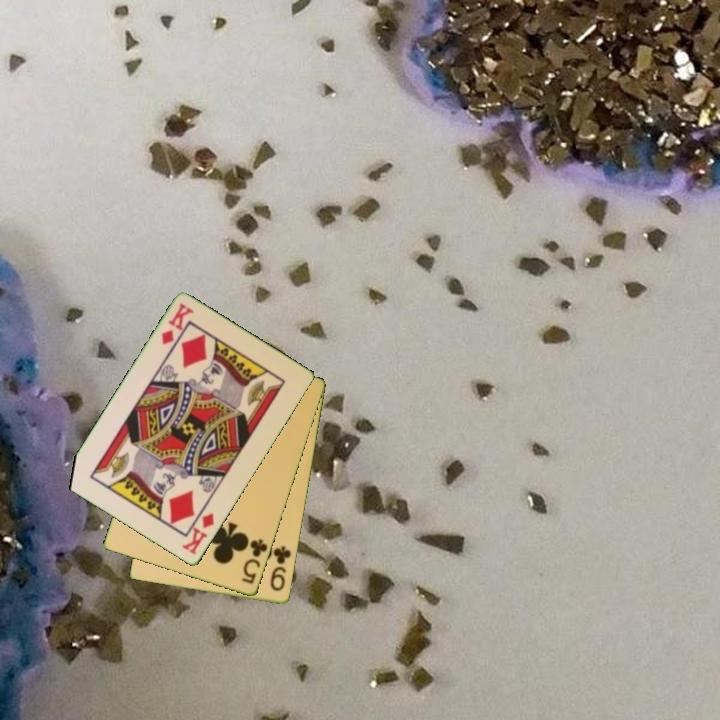5c: (238, 536, 271, 587)
9c: (267, 542, 294, 594)
Kd: (178, 510, 217, 558), (158, 300, 196, 348)
